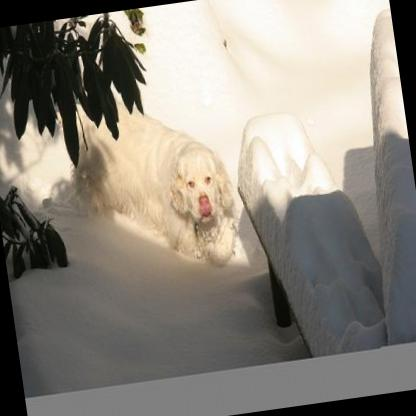clumber: (51, 79, 241, 283)
